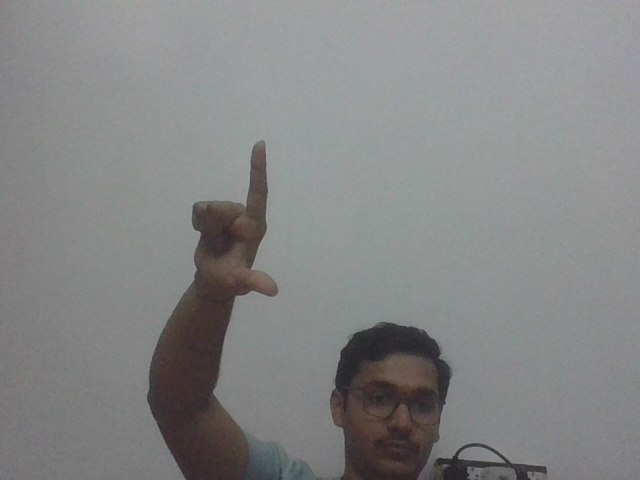L: (190, 138, 288, 305)
